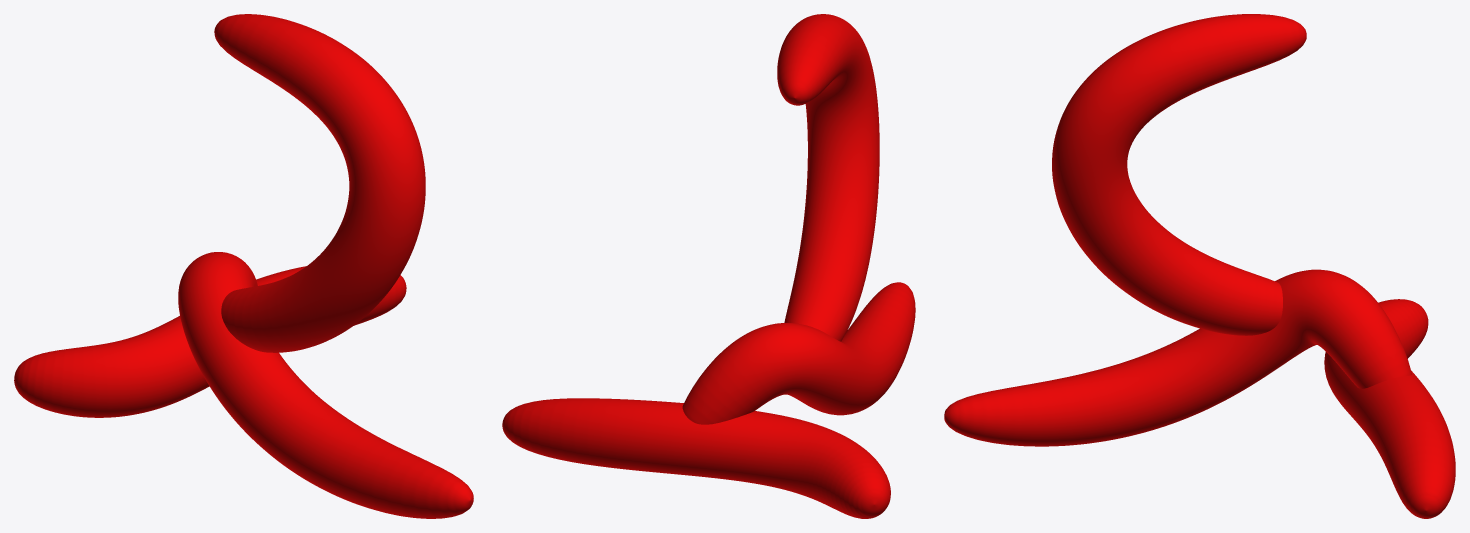
Rendered from Figure_60.fbx.
3 views of the same model, side by side, from view 1: azimuth 30°, elevation 25°; view 2: azimuth 150°, elevation 25°; view 3: azimuth 270°, elevation 25° (orthographic). The views are drawn at different scales.
Visible parts, largest first — view 1: Figure_60; view 2: Figure_60; view 3: Figure_60.
Part boxes in pixels (x1,y1,x2,y2): Figure_60: (14, 14, 473, 518); Figure_60: (502, 14, 915, 518); Figure_60: (944, 14, 1455, 518).
Bounding box in the file's own units: 39.21 × 40.18 × 44.43.
